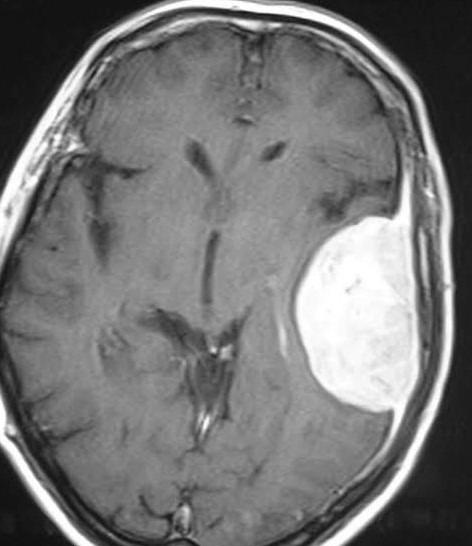Tumour-Meningioma: (249, 188, 432, 426), (250, 188, 433, 426)
